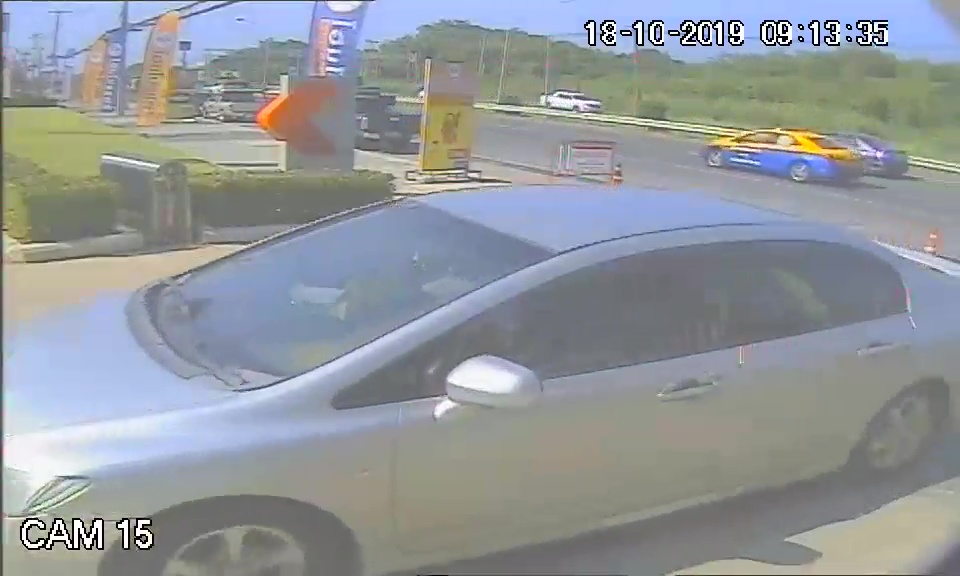sedan: (29, 180, 925, 545)
